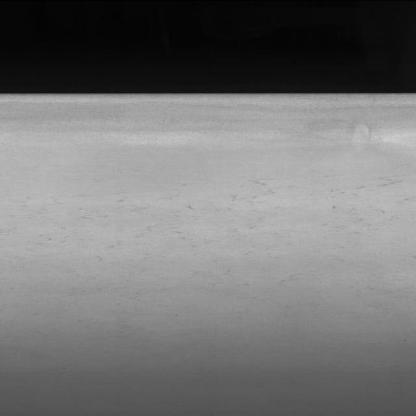silk_spot: (19, 187, 392, 276)
